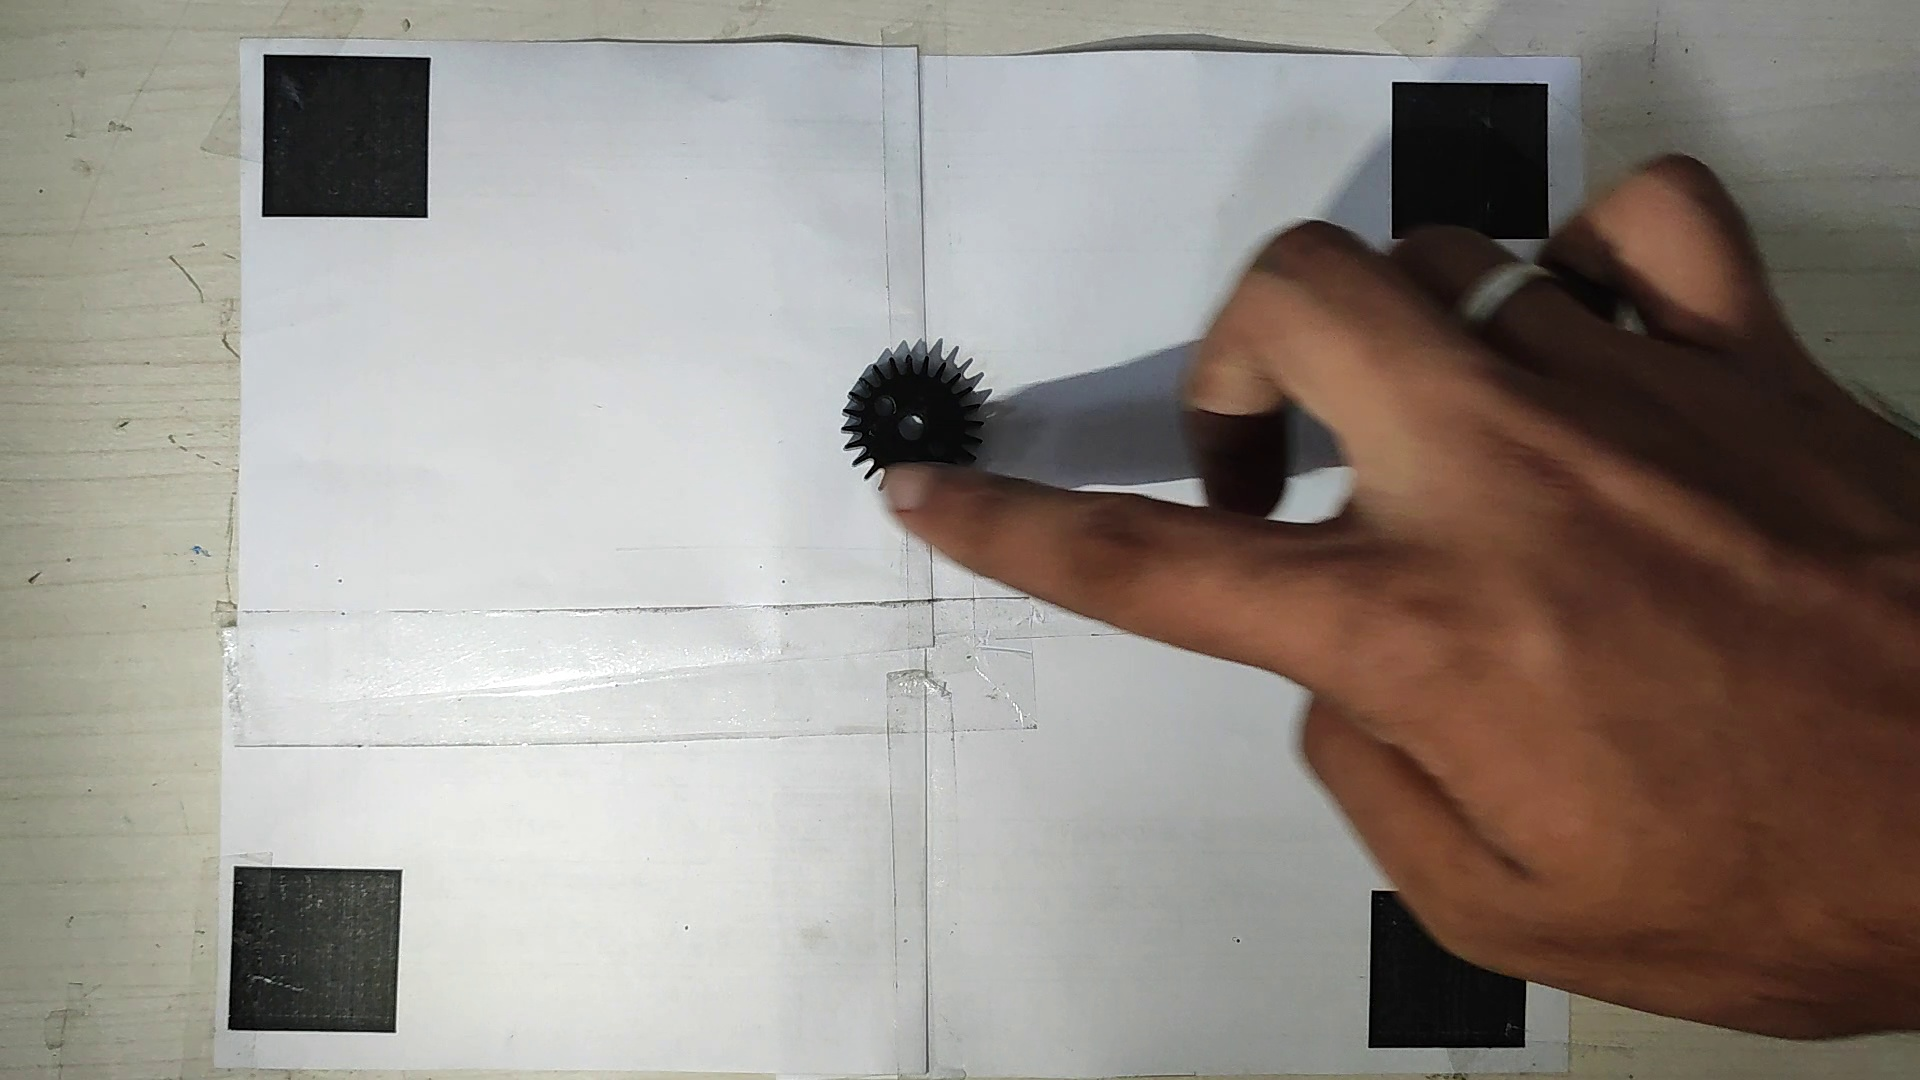Gear: (836, 351, 992, 500)
